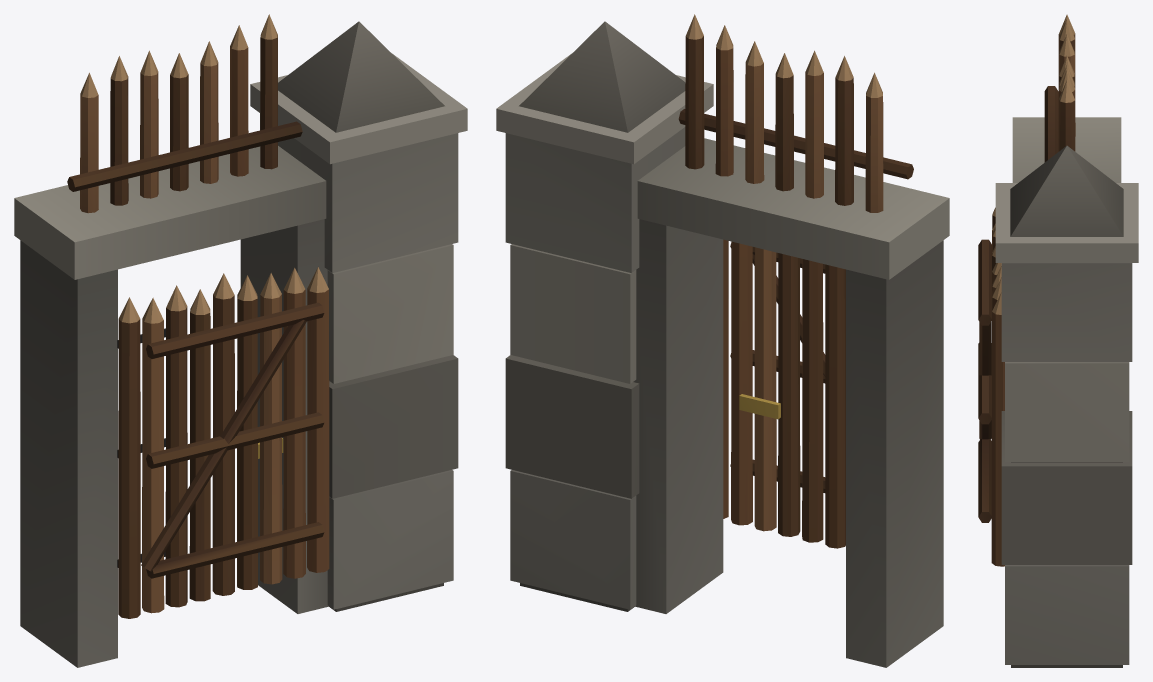
The model's file is fence_wicket_stone.glb.
3 renders of one model, left to right at view 1: azimuth 30°, elevation 25°; view 2: azimuth 150°, elevation 25°; view 3: azimuth 270°, elevation 25°, orthographic. The views are drawn at different scales.
Parts seen in each view (by area): view 1: fence_wicket_stone, side; view 2: fence_wicket_stone, side; view 3: fence_wicket_stone, side.
Part boxes in pixels (left/top/right/bottom): fence_wicket_stone: left=14, top=14, right=467, bottom=667; side: left=117, top=267, right=329, bottom=618; fence_wicket_stone: left=496, top=14, right=949, bottom=667; side: left=723, top=239, right=845, bottom=548; fence_wicket_stone: left=995, top=14, right=1138, bottom=667; side: left=978, top=207, right=1004, bottom=566.
Size of the model in its own units: 2.56 by 3.73 by 1.03.
